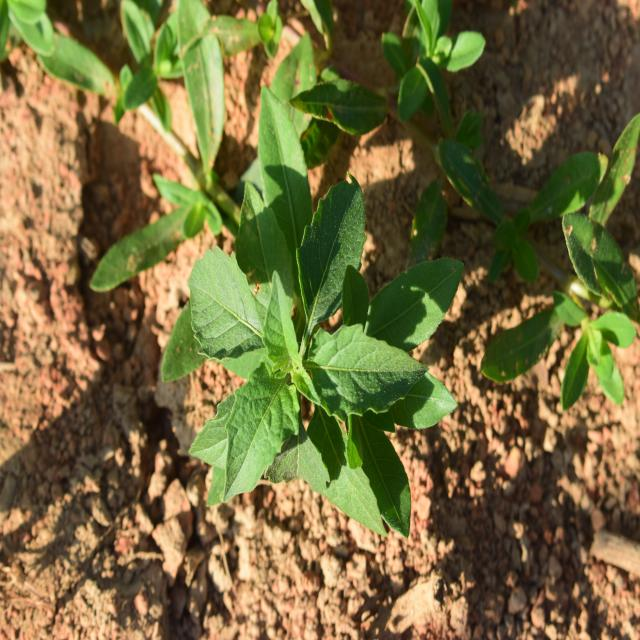Black_nightshade: (178, 140, 448, 516)
